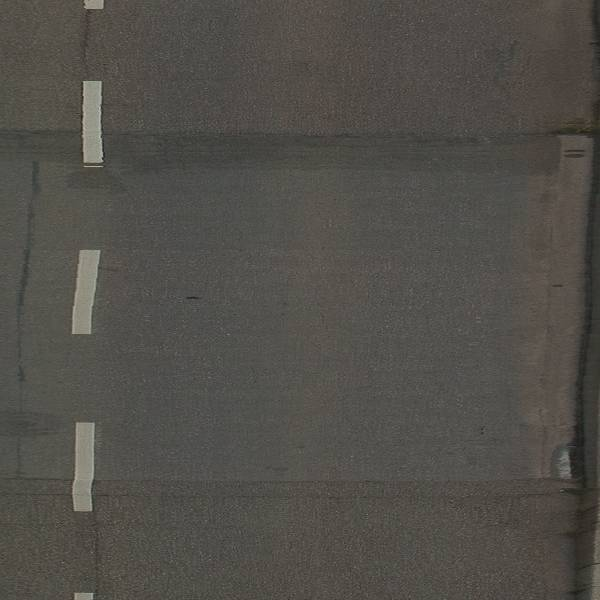road_damage: (132, 124, 559, 175), (111, 475, 559, 504), (8, 154, 47, 389)
